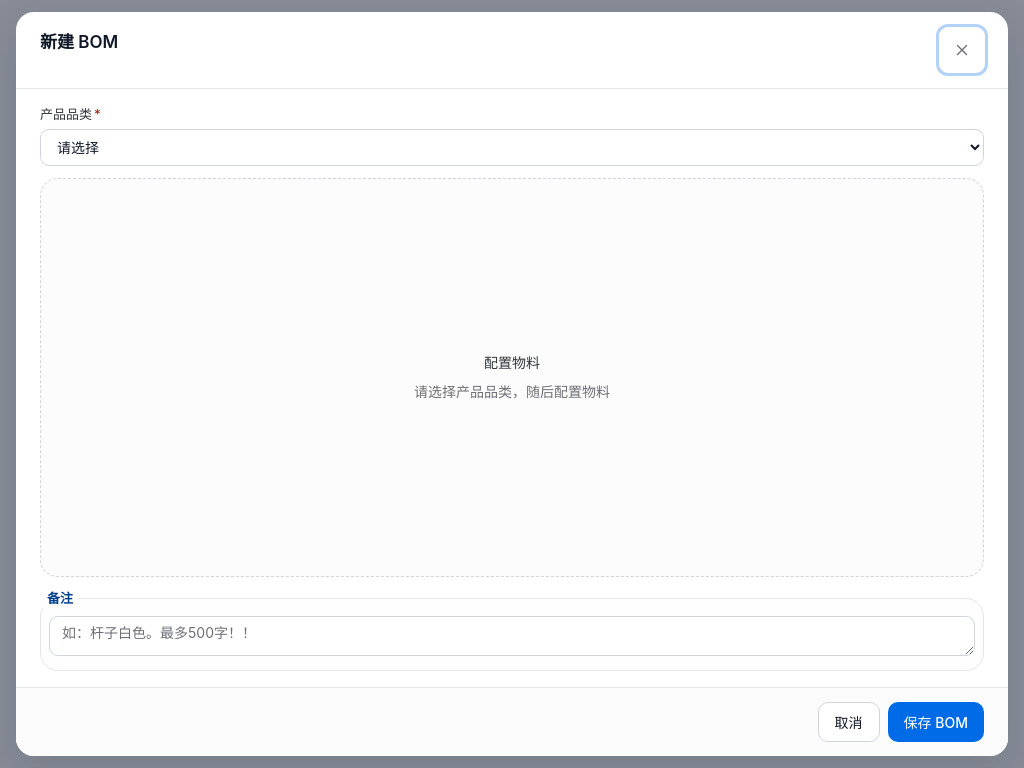
分组节点可折叠（文件树）：折叠后物料隐藏、组头显示已选标记，再展开保持勾选
This screenshot has width=1024, height=768.
Select "旋转XK2" in the dropdown labelled "产品品类*" at coordinates (512, 147), box [40, 128, 984, 166]
(page scrolled)
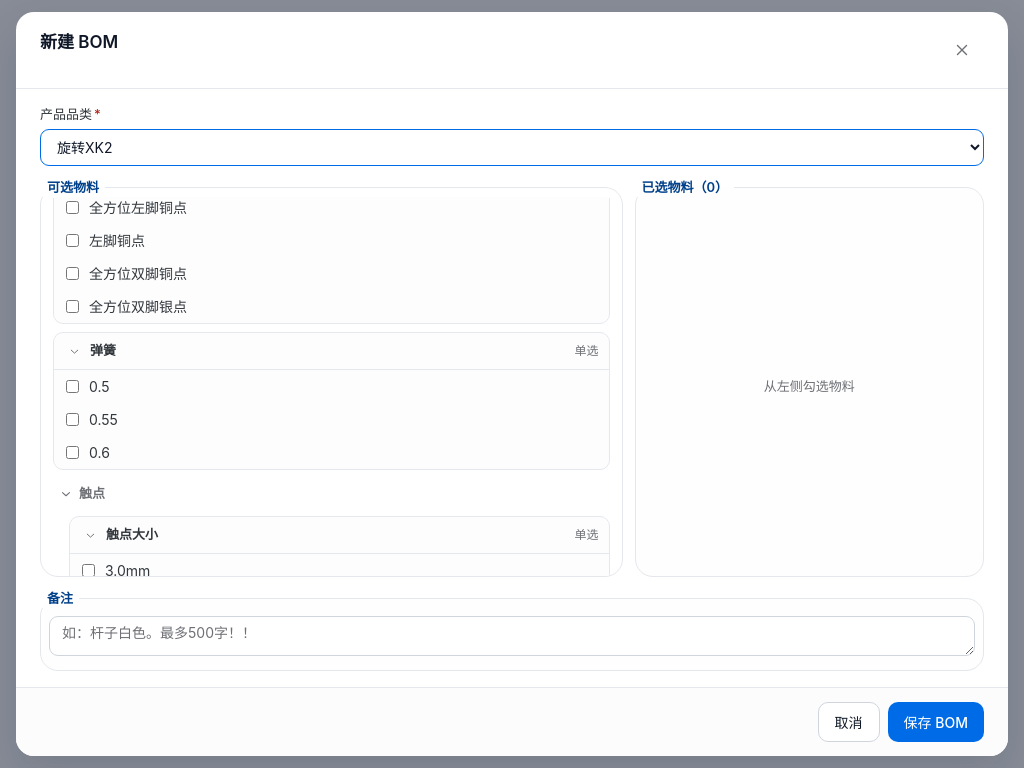
Click the checkbox labelled "0.5".
click(72, 386)  # box [66, 380, 79, 393]
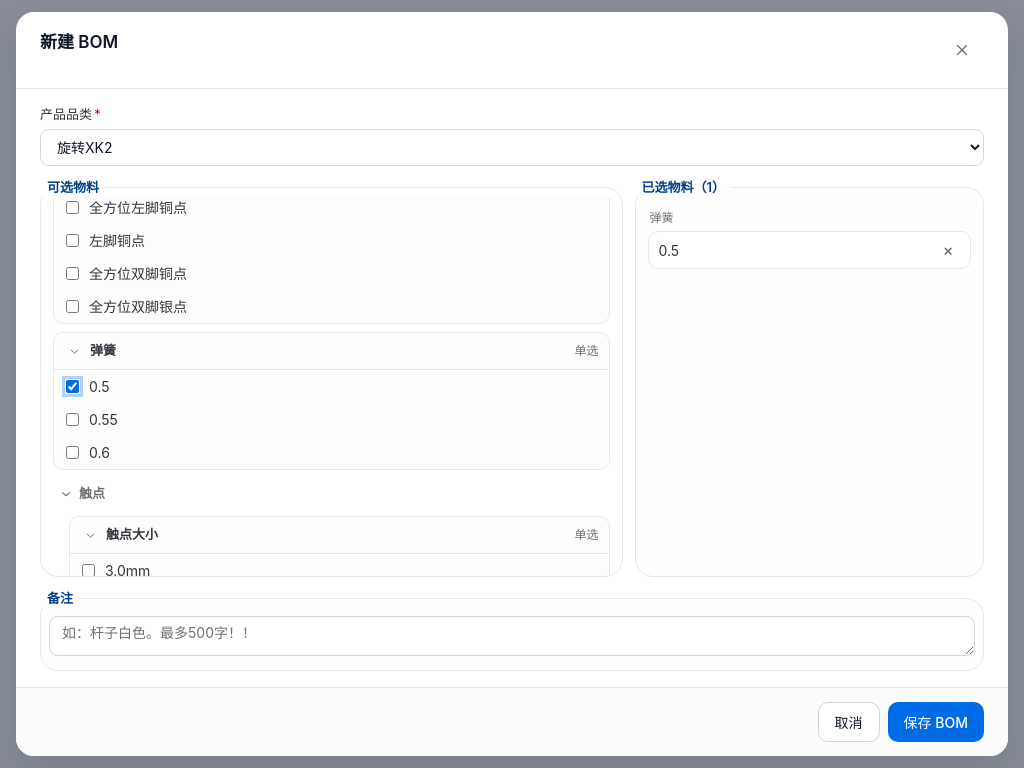
Click the button named "折叠弹簧".
click(74, 351)  # box [64, 341, 84, 361]
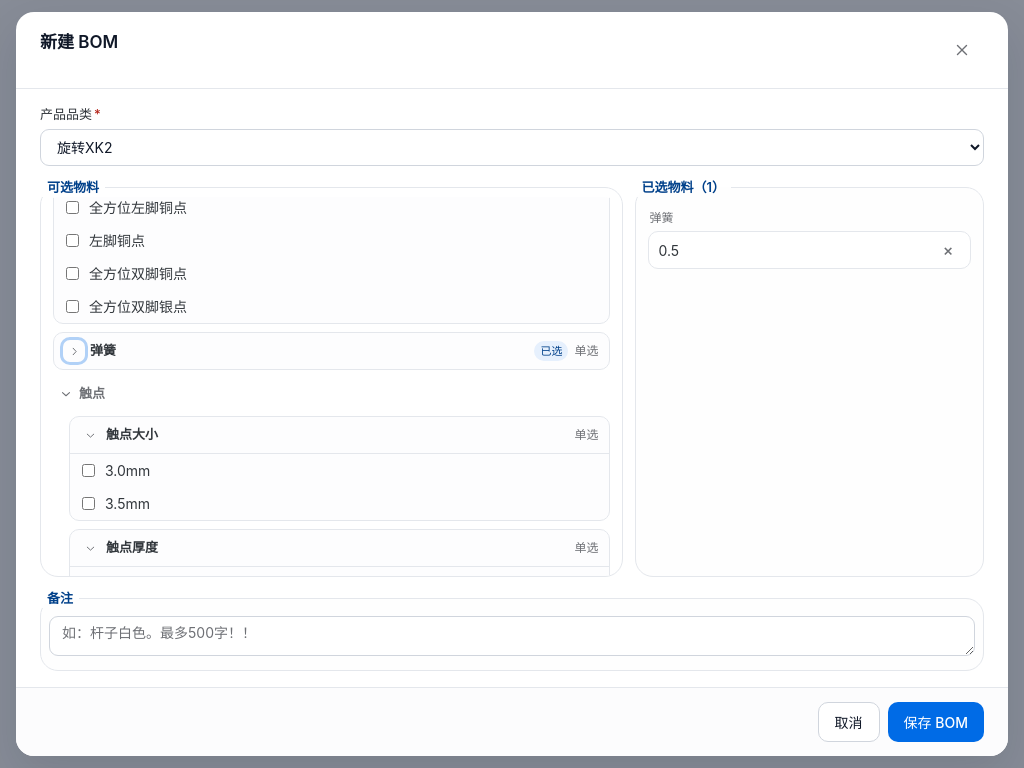
Expected: the text "已选" is shown, [534, 341, 568, 361]
Click the button named "展开弹簧".
click(74, 351)  # box [64, 341, 84, 361]
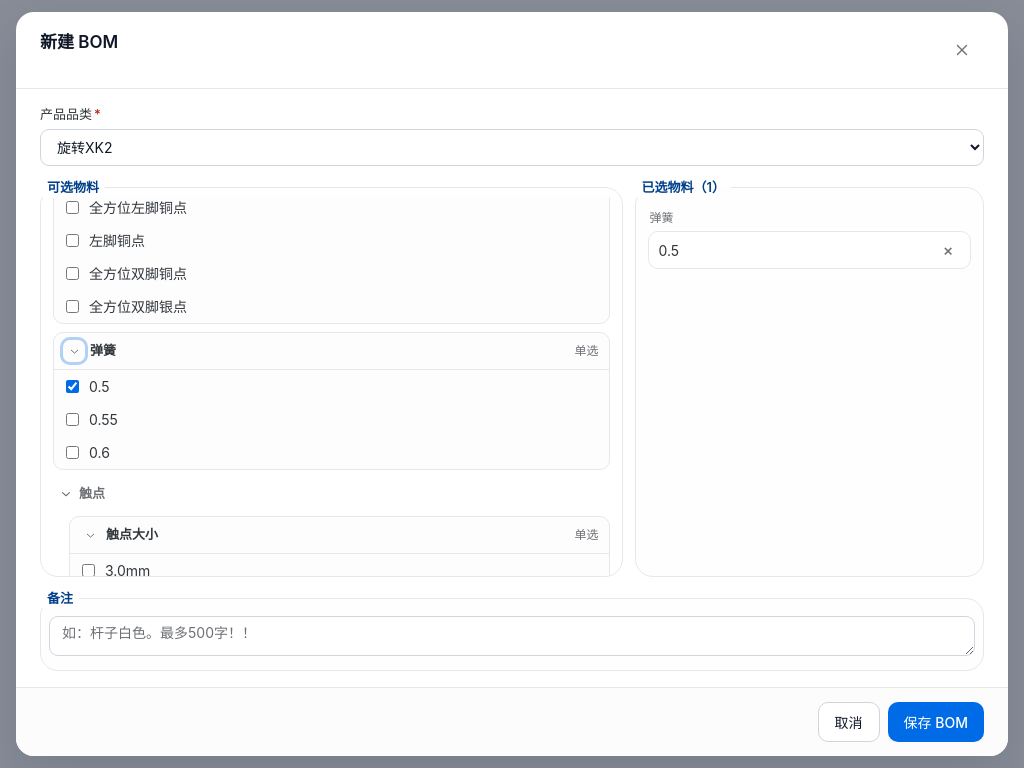
Expected: the checkbox labelled "0.5" is checked, [66, 380, 79, 393]
